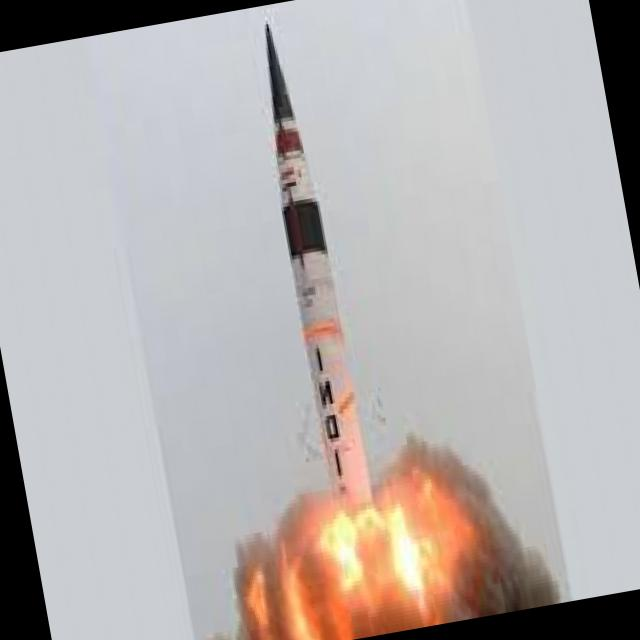rocket: (242, 15, 370, 496)
